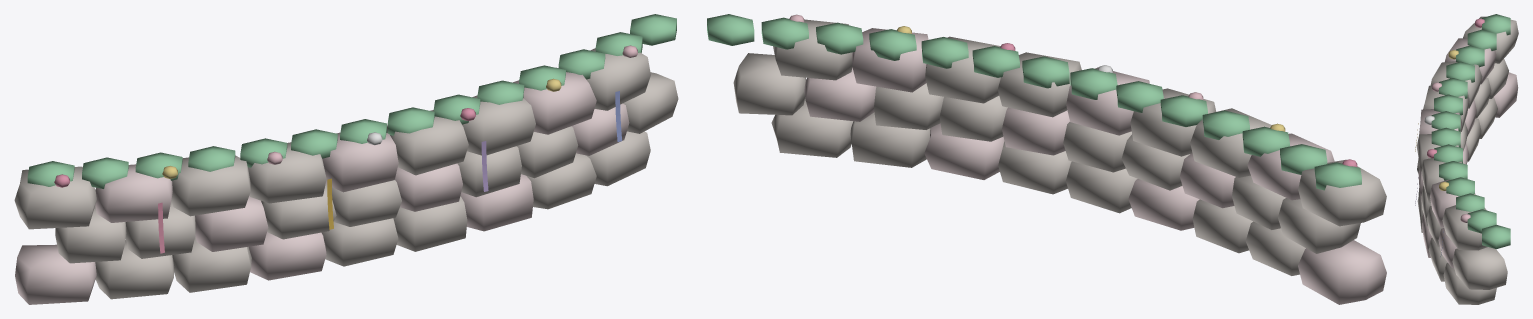
Rendered from rite_terrace_wall.gltf.
The picture shows the model from 3 angles, left to right: view 1: azimuth 30°, elevation 25°; view 2: azimuth 150°, elevation 25°; view 3: azimuth 270°, elevation 25°; orthographic projection. The views are drawn at different scales.
Visible parts, largest first — view 1: rite_terrace_wall; view 2: rite_terrace_wall; view 3: rite_terrace_wall.
Boxes of the visible parts, left/top/right/bottom form: rite_terrace_wall: left=14, top=14, right=678, bottom=304; rite_terrace_wall: left=707, top=14, right=1386, bottom=304; rite_terrace_wall: left=1415, top=14, right=1518, bottom=304.
Size of what is drawn, in the model's own units: 8.56 by 1.55 by 1.62.
